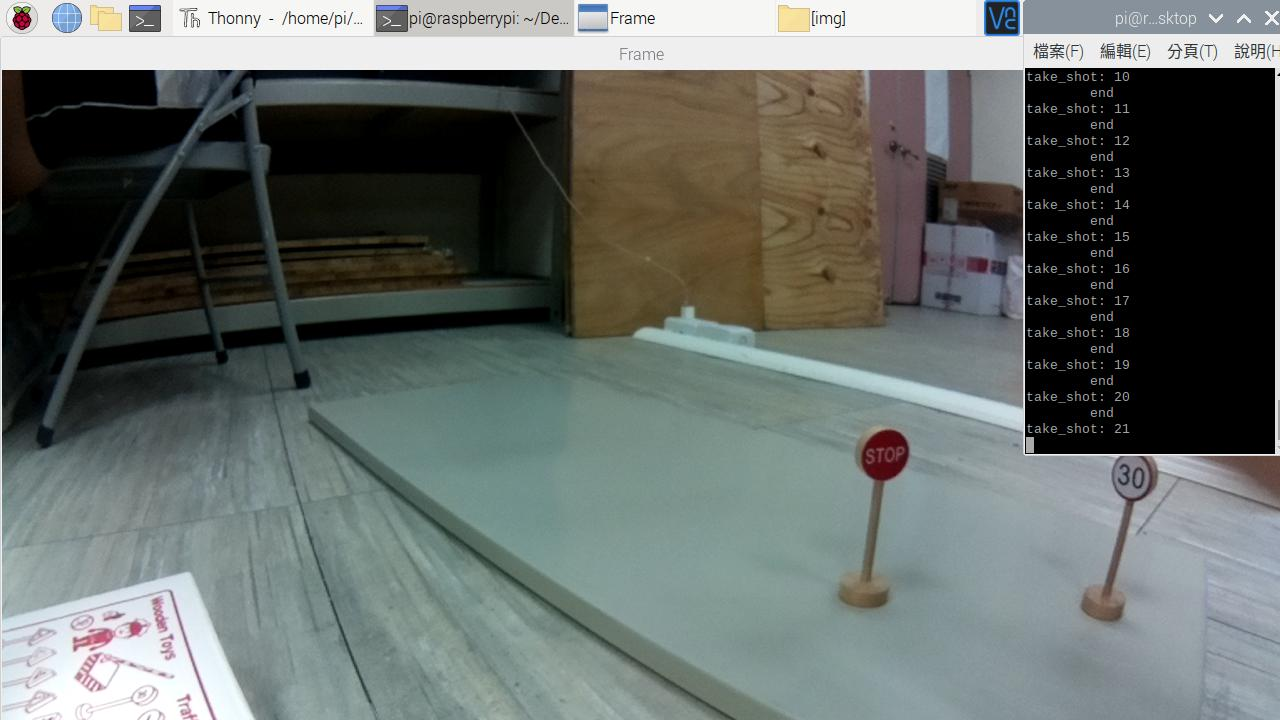Speed30: (1111, 453, 1155, 504)
Stop: (850, 422, 920, 479)
